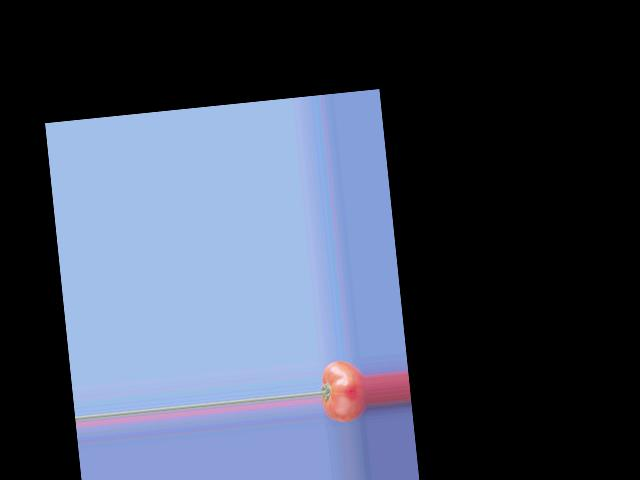tomato: (317, 359, 369, 424)
